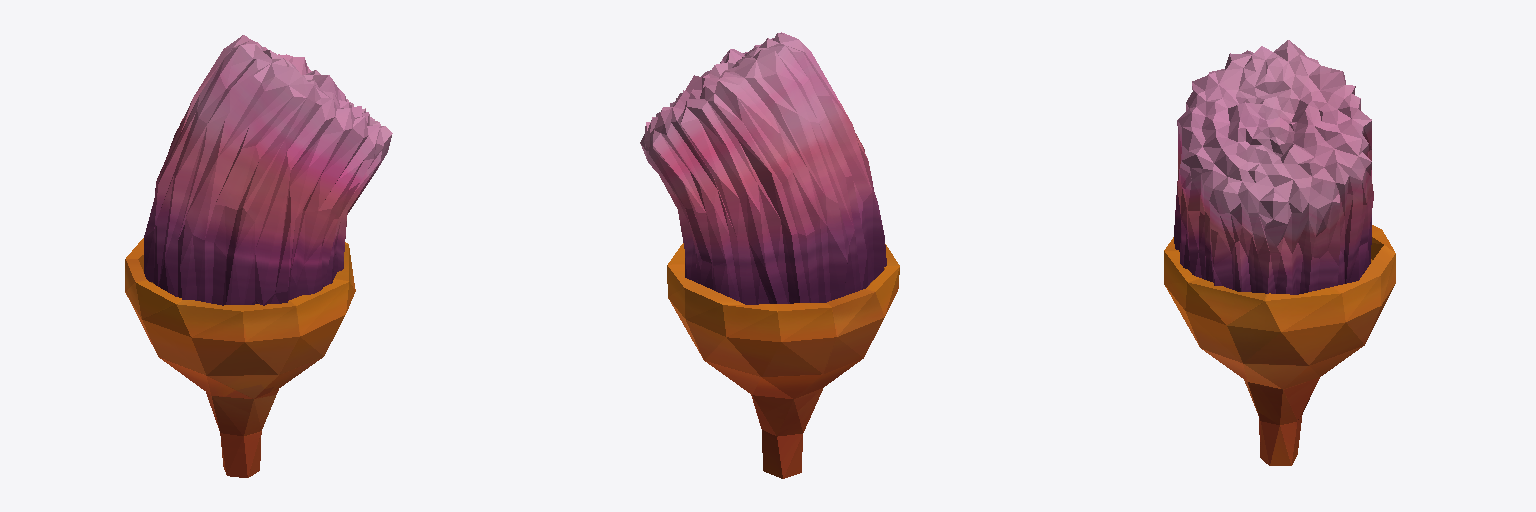
The picture shows the model from 3 angles: view 1: azimuth 30°, elevation 25°; view 2: azimuth 150°, elevation 25°; view 3: azimuth 270°, elevation 25°; orthographic projection.
Parts seen in each view (by area): view 1: Cylinder_001, Cylinder; view 2: Cylinder_001, Cylinder; view 3: Cylinder_001, Cylinder.
Part boxes in pixels (bbox=[...]): Cylinder_001: bbox=[144, 35, 392, 305]; Cylinder: bbox=[125, 238, 355, 477]; Cylinder_001: bbox=[640, 32, 886, 304]; Cylinder: bbox=[667, 243, 899, 478]; Cylinder_001: bbox=[1174, 40, 1373, 294]; Cylinder: bbox=[1164, 225, 1395, 465].
Bounding box in the file's own units: 1270 × 2218 × 1104.
Materials: 2 (2 with a texture image).